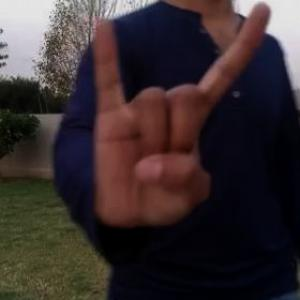takeoff-hand: (81, 0, 283, 238)
